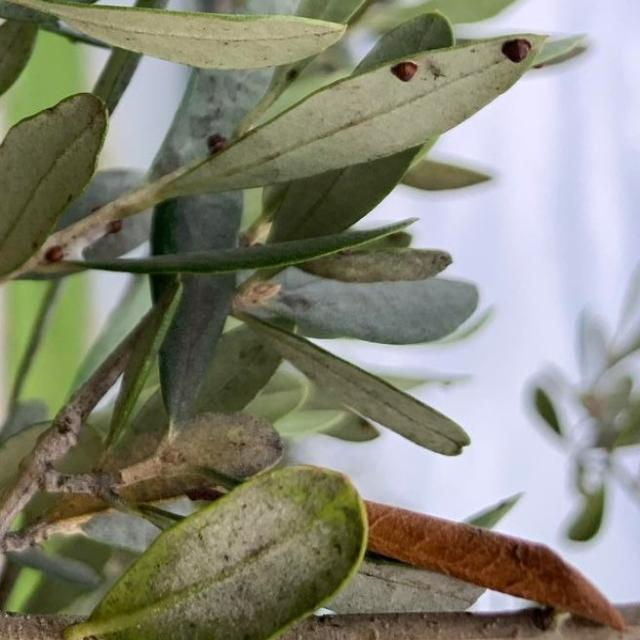BlackScale: (502, 38, 530, 62), (392, 61, 418, 81), (206, 136, 226, 155), (44, 248, 67, 264), (104, 220, 123, 236)
